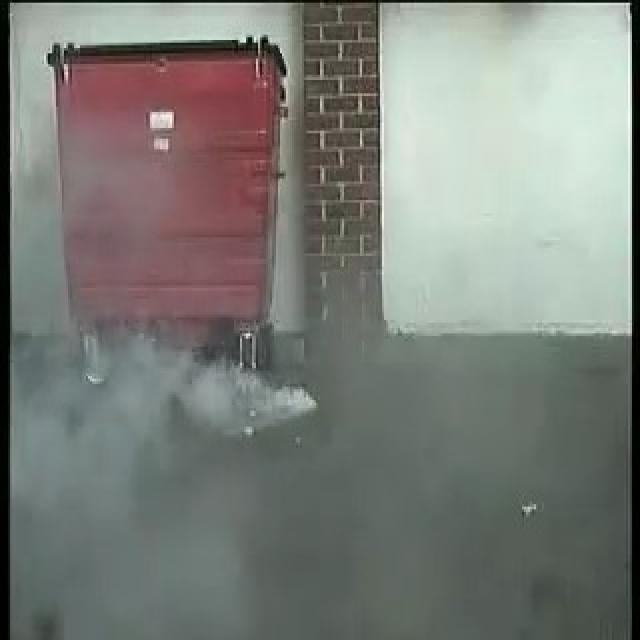smoke: (113, 345, 313, 433)
